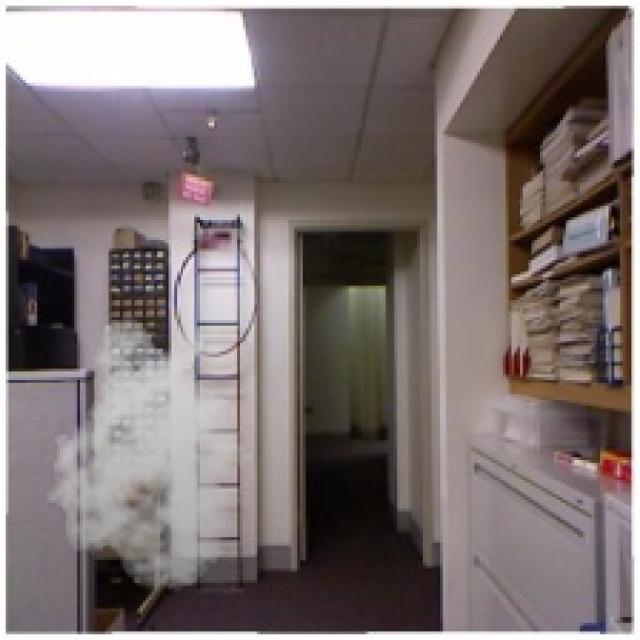Smoke: (40, 314, 266, 592)
